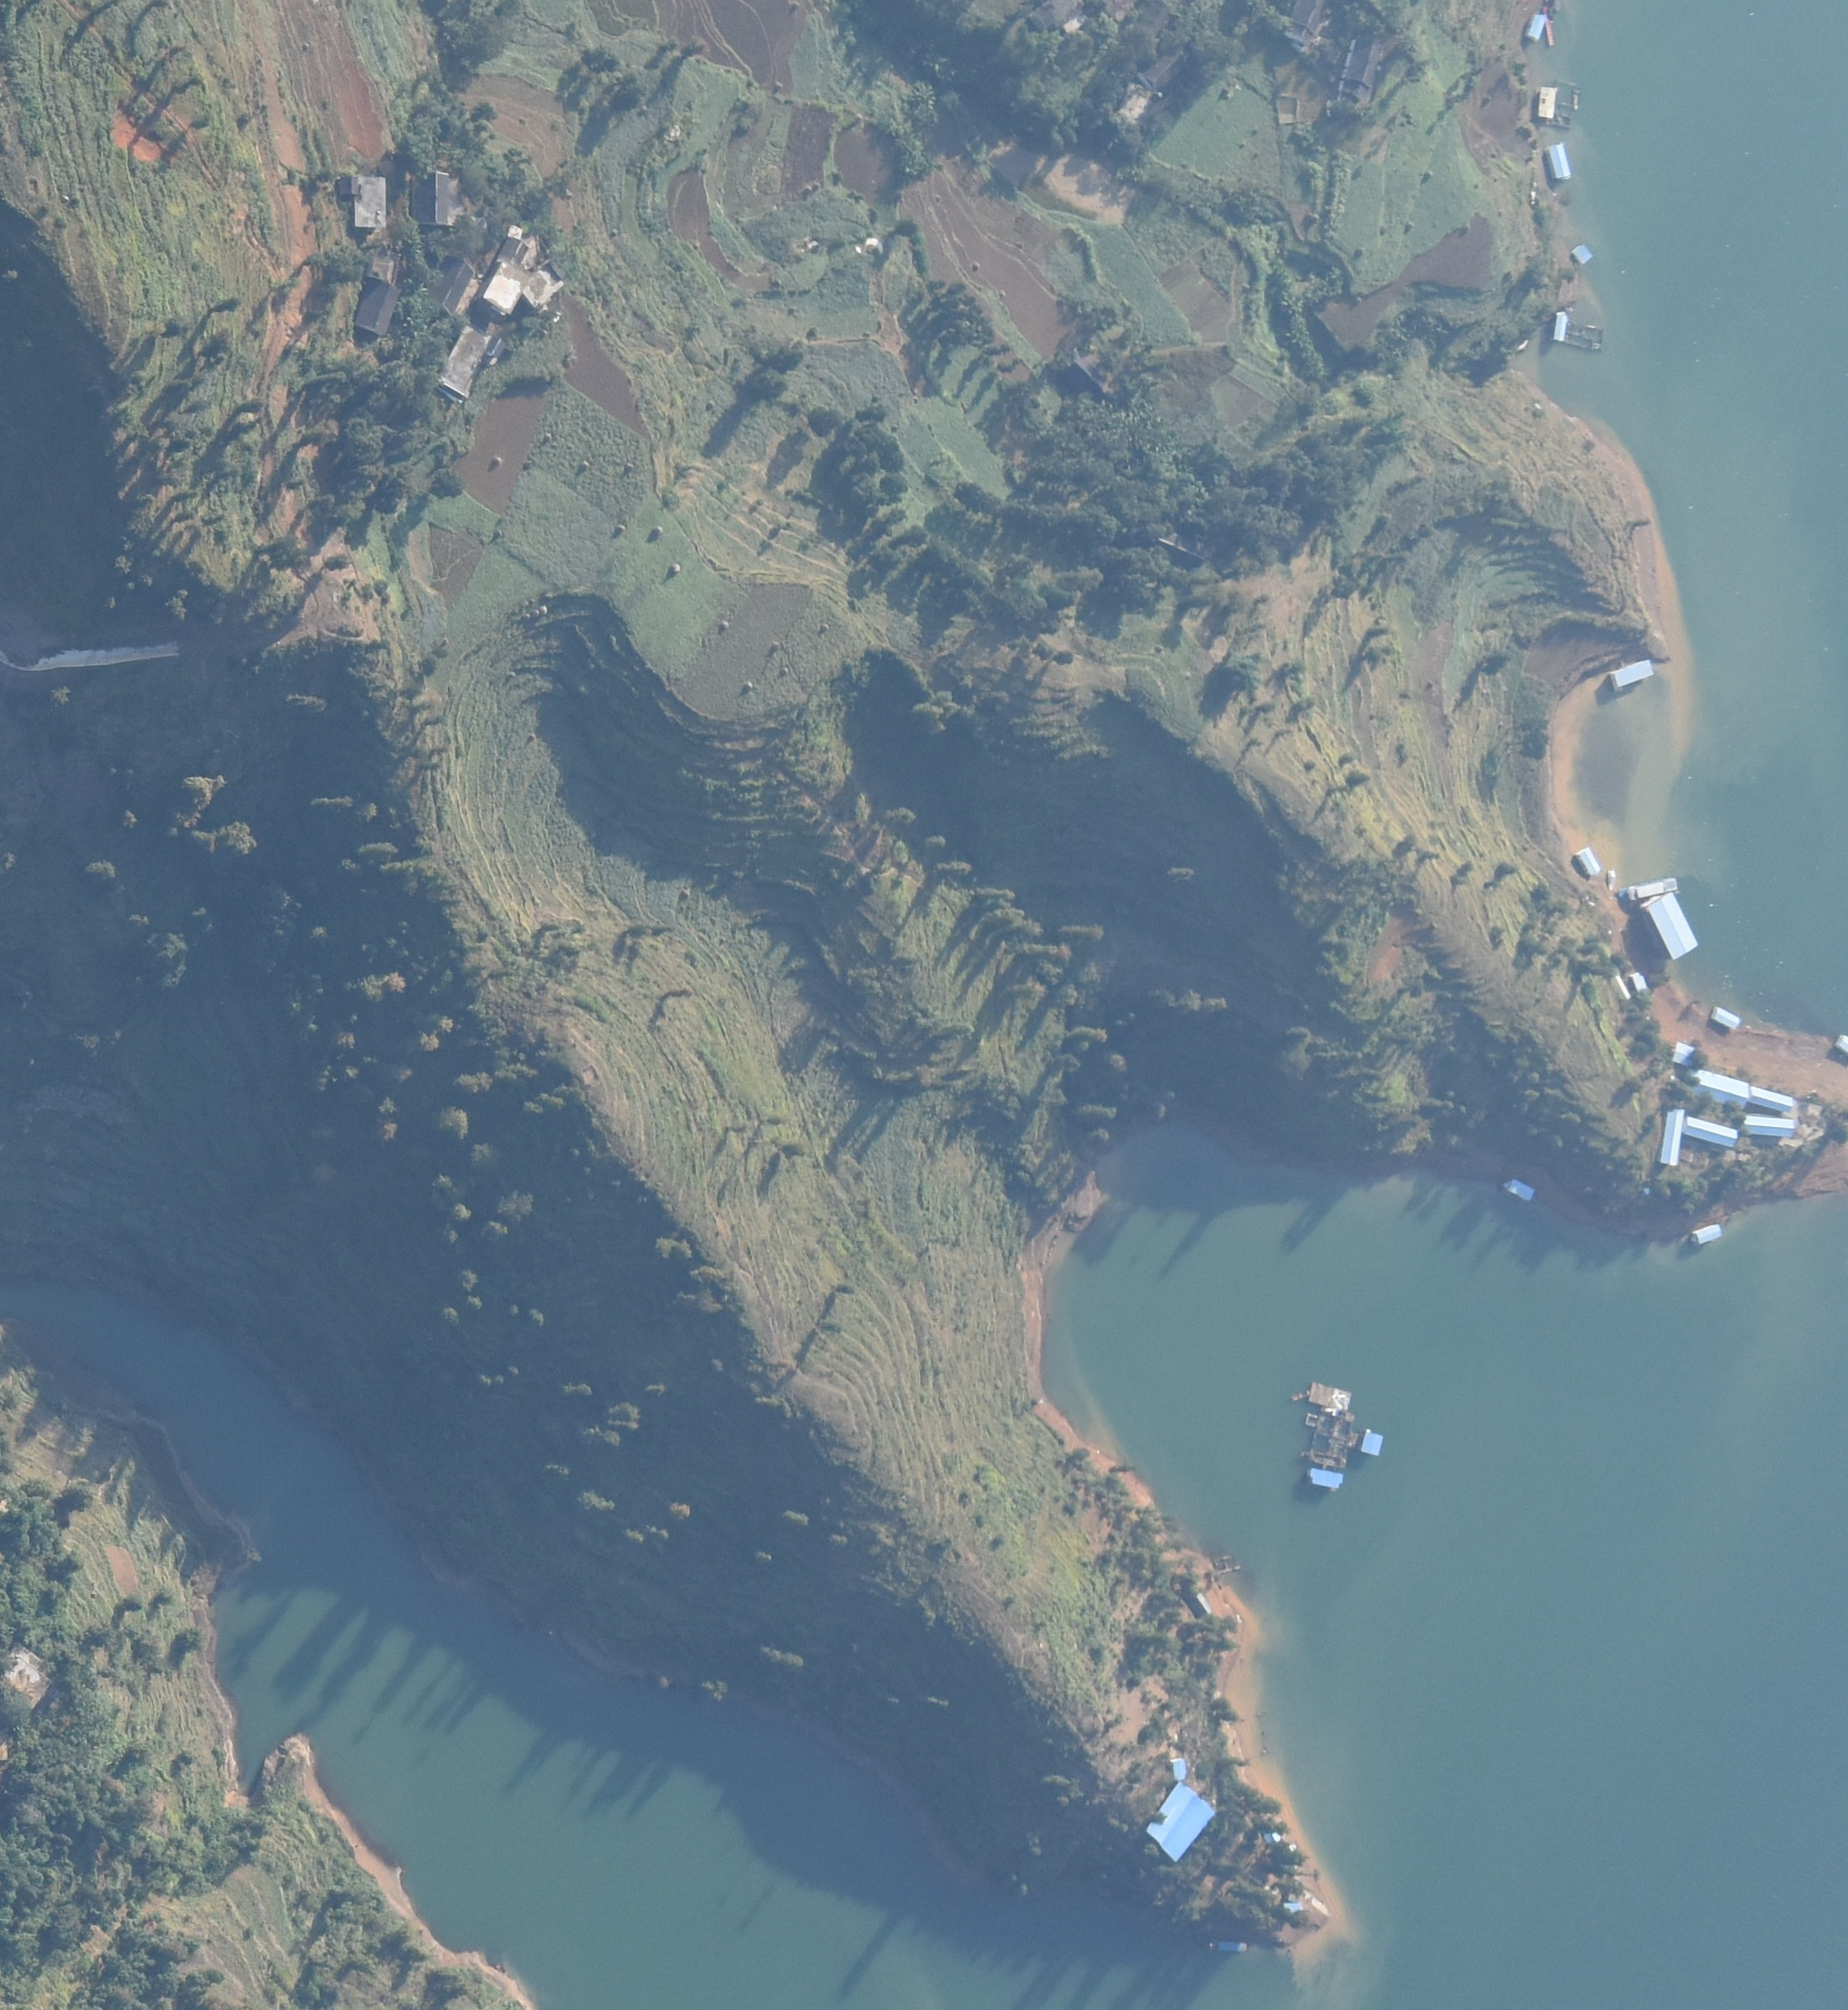building: (485, 228, 560, 314), (434, 326, 502, 402), (353, 255, 399, 337), (426, 252, 474, 321), (1341, 36, 1383, 105), (334, 176, 390, 228), (409, 172, 460, 228), (1137, 51, 1182, 96), (1287, 4, 1320, 42)
prefabricated-house: (1143, 1786, 1212, 1862), (1640, 893, 1699, 959), (1689, 1067, 1750, 1106), (1685, 1114, 1738, 1150), (1308, 1381, 1353, 1415), (1611, 656, 1652, 691), (1748, 1083, 1794, 1113), (1743, 1116, 1798, 1139), (1660, 1109, 1683, 1164), (1544, 141, 1573, 182), (1181, 1589, 1212, 1620), (1306, 1469, 1345, 1493), (1691, 1225, 1725, 1247), (1362, 1429, 1386, 1460), (1548, 309, 1569, 344), (1712, 1005, 1742, 1029), (1504, 1178, 1535, 1201), (1576, 847, 1599, 876), (1631, 969, 1651, 1000), (1536, 85, 1555, 116), (1671, 1041, 1696, 1065), (1526, 13, 1547, 40), (1612, 972, 1629, 1004), (1169, 1760, 1191, 1781), (1283, 1901, 1305, 1918), (1262, 1828, 1284, 1845), (1573, 244, 1591, 263)
ship: (1207, 1937, 1251, 1956)
